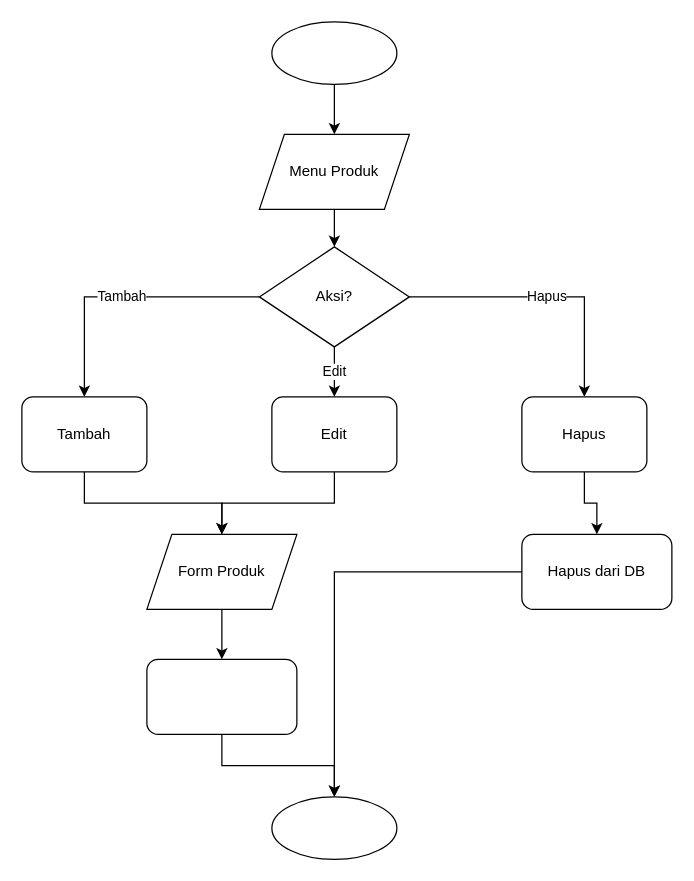
Image size: 694x881. Some labels were removed from this diagram. The centre of each missing label's shape, as x and y in pixels:
Mulai: the point at 334,52
Selesai: the point at 334,827
Simpan ke DB: the point at 221,696
